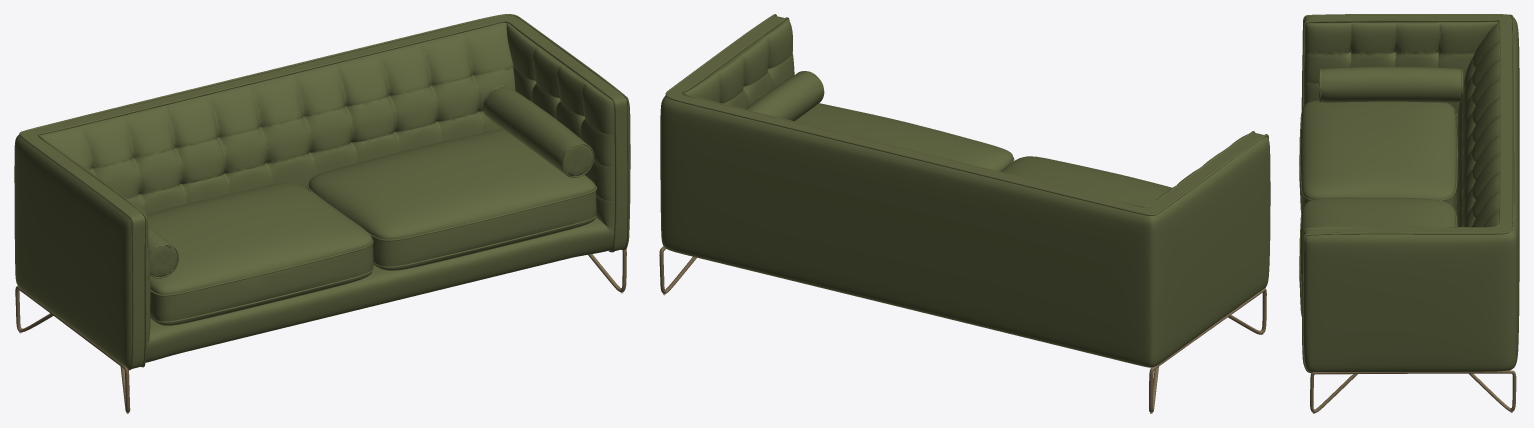
The picture shows the model from 3 angles, left to right: view 1: azimuth 30°, elevation 25°; view 2: azimuth 150°, elevation 25°; view 3: azimuth 270°, elevation 25°; orthographic projection. The views are drawn at different scales.
Parts seen in each view (by area): view 1: RootNode; view 2: RootNode; view 3: RootNode.
Part boxes in pixels (x1,y1,x2,y2): RootNode: (14, 14, 630, 413); RootNode: (659, 14, 1270, 413); RootNode: (1299, 14, 1519, 413).
Bounding box in the file's own units: 2.09 × 0.7891 × 0.8669.
Materials: 1 (1 with a texture image).
